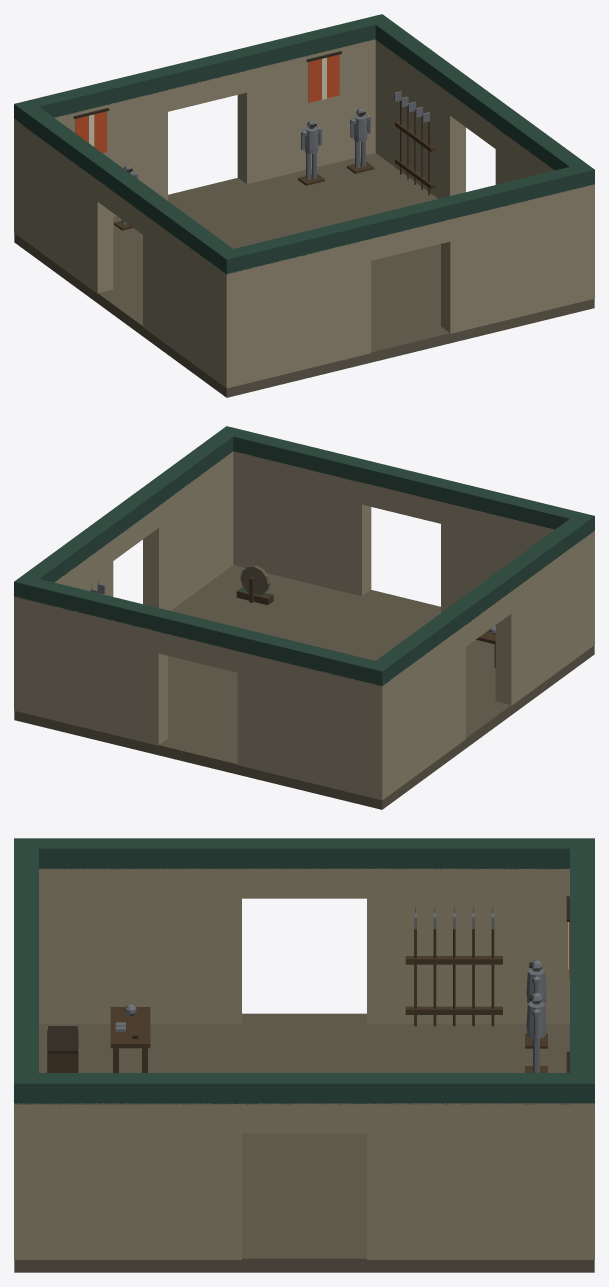
Rendered from LateArmouryHall.fbx.
3 renders of one model, top to bottom at view 1: azimuth 30°, elevation 25°; view 2: azimuth 150°, elevation 25°; view 3: azimuth 270°, elevation 25°, orthographic. The views are drawn at different scales.
Visible parts, largest first — view 1: LateArmouryHall; view 2: LateArmouryHall; view 3: LateArmouryHall.
Boxes of the visible parts, x1,y1,x2,y2 form: LateArmouryHall: (14, 14, 594, 397); LateArmouryHall: (14, 426, 594, 809); LateArmouryHall: (14, 838, 594, 1272).
Size of the model in its own units: 1202 by 432 by 1202.
8 materials, 8 textured.
